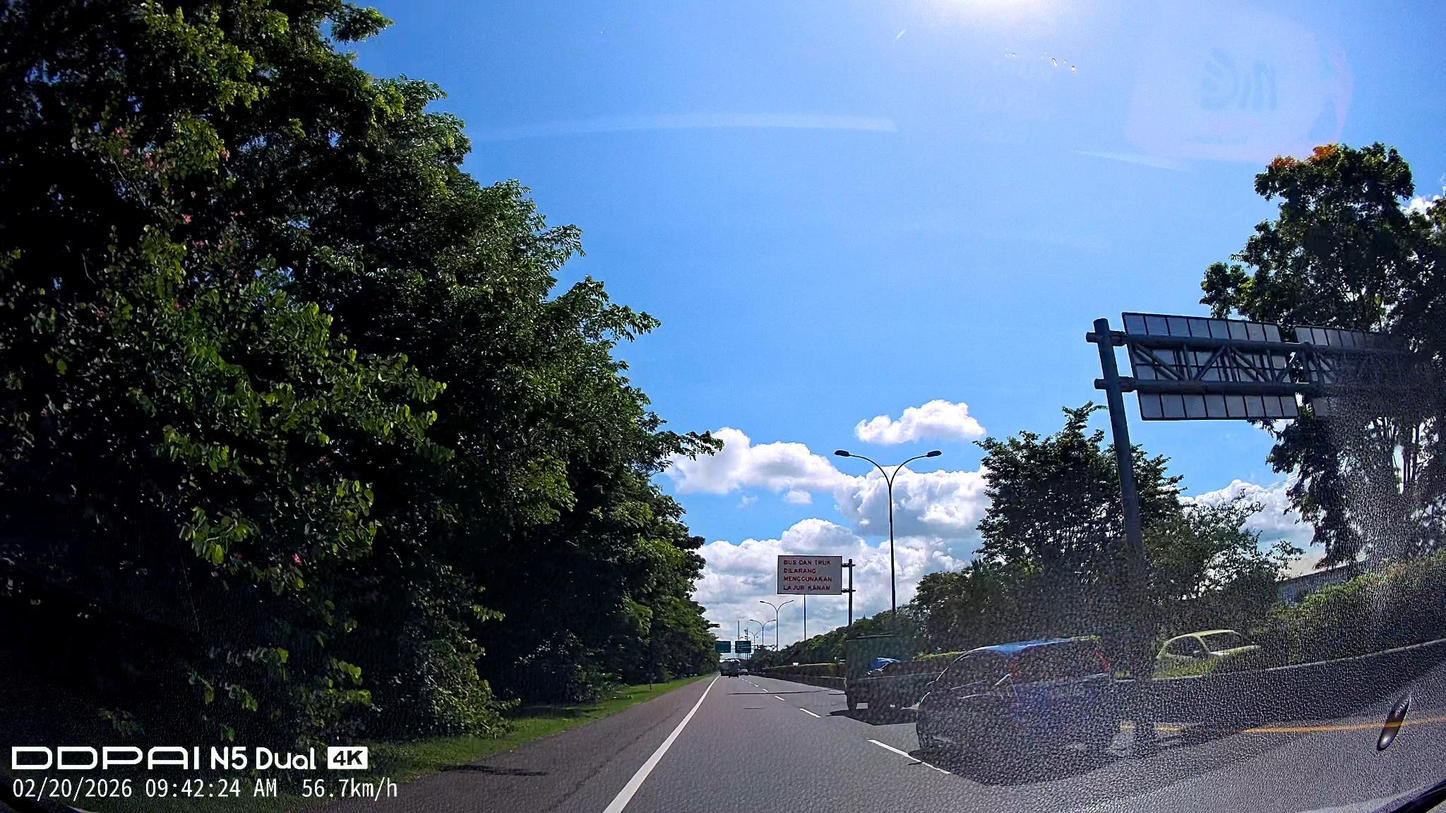rambu_teks: (776, 555, 843, 595)
